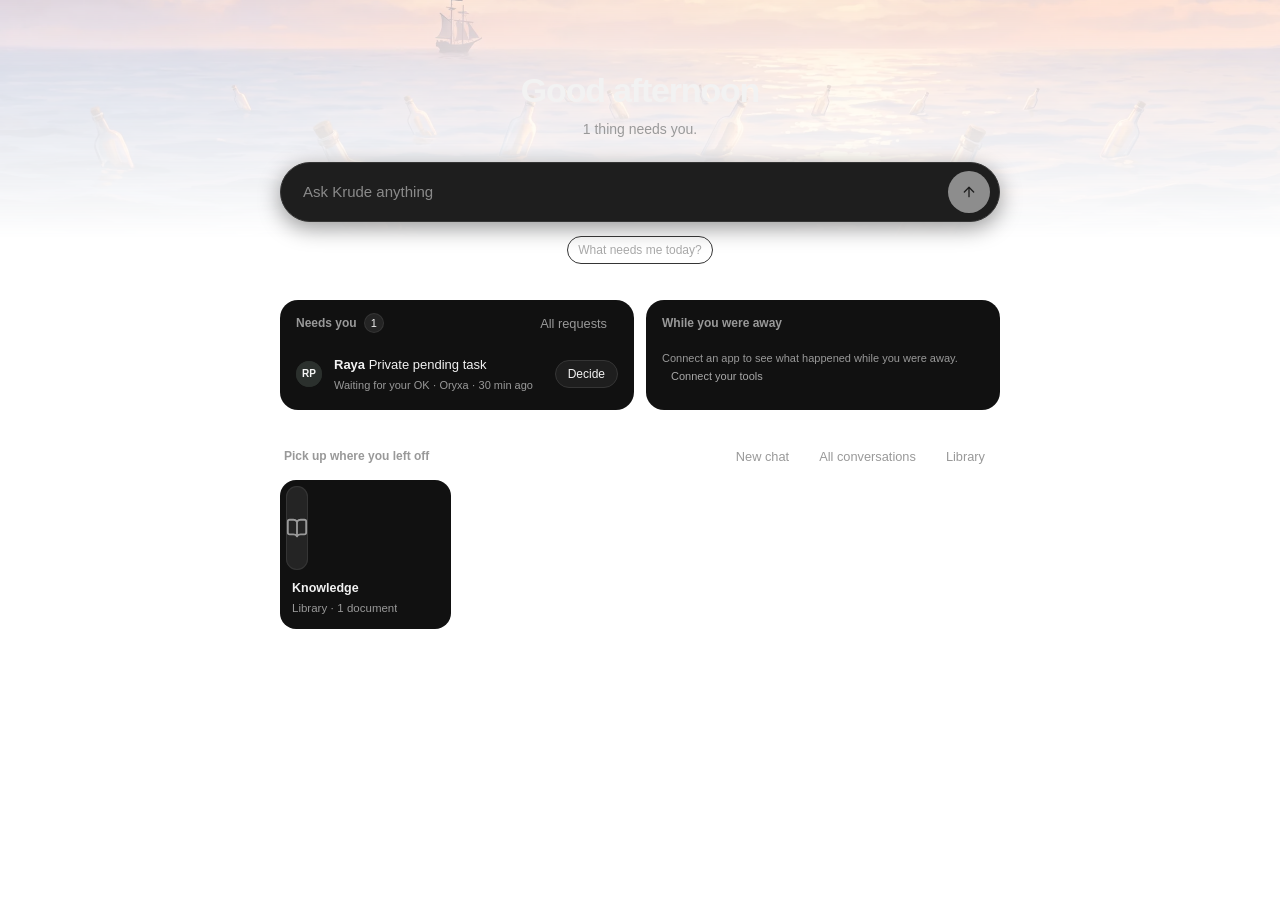
Test case: removes private requests after a refused refresh, preserving the unsent composer
Check: the text "Private pending task" is shown, box [369,356,486,372]
Type "Keep this draft" into the text box named "Start a new conversation". click: x=622, y=192
box: [303,176,940,208]
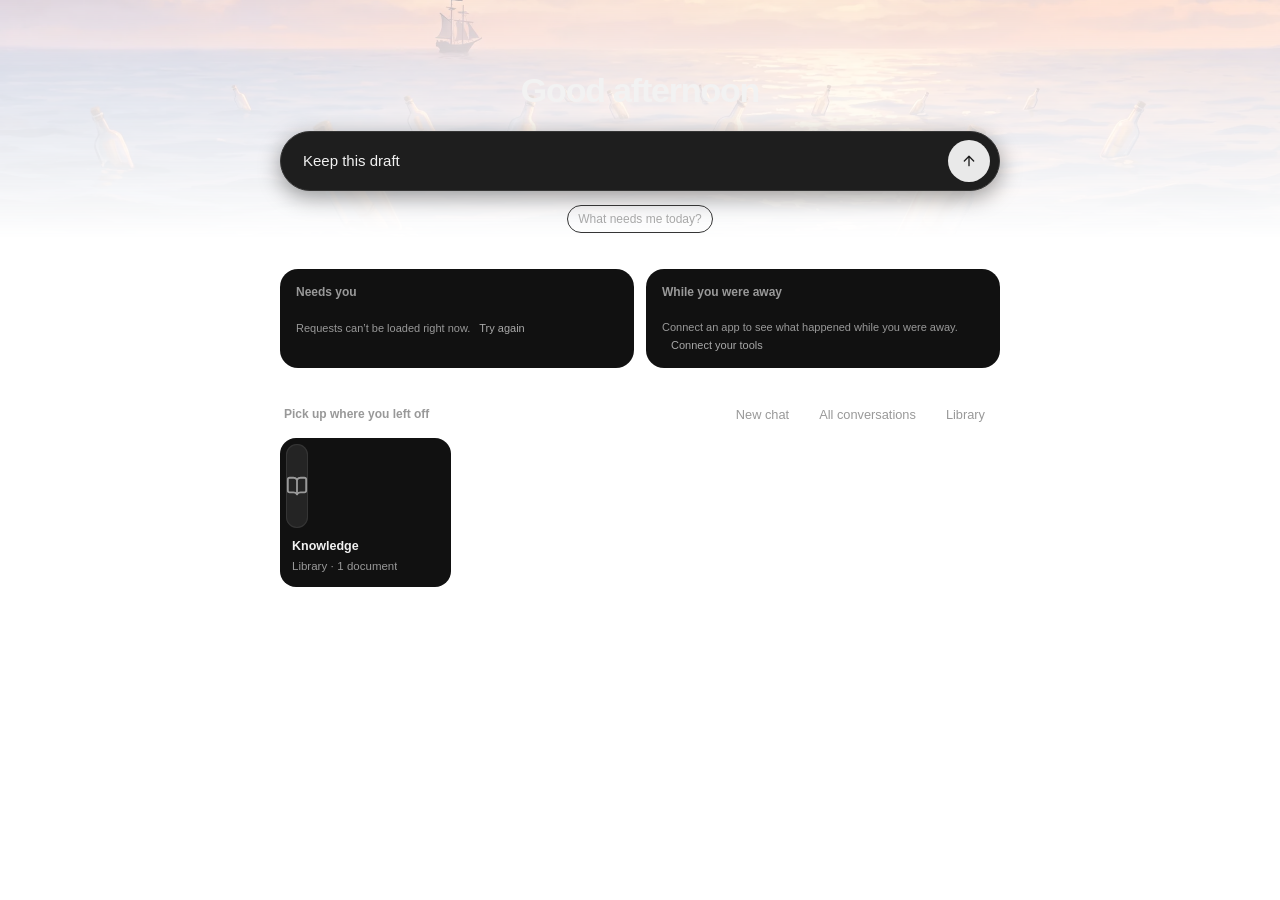
Check: the text "Requests can’t be loaded right now." is shown, box [296,322,470,334]
Check: the text "Private pending task" is gone
